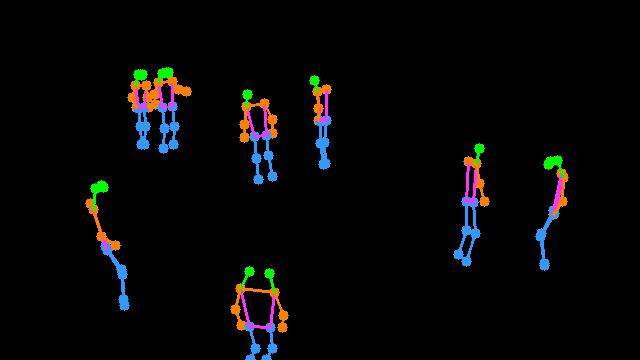normal: (438, 135, 499, 283), (228, 249, 299, 360), (120, 57, 195, 162), (296, 69, 344, 178), (237, 86, 279, 188)
